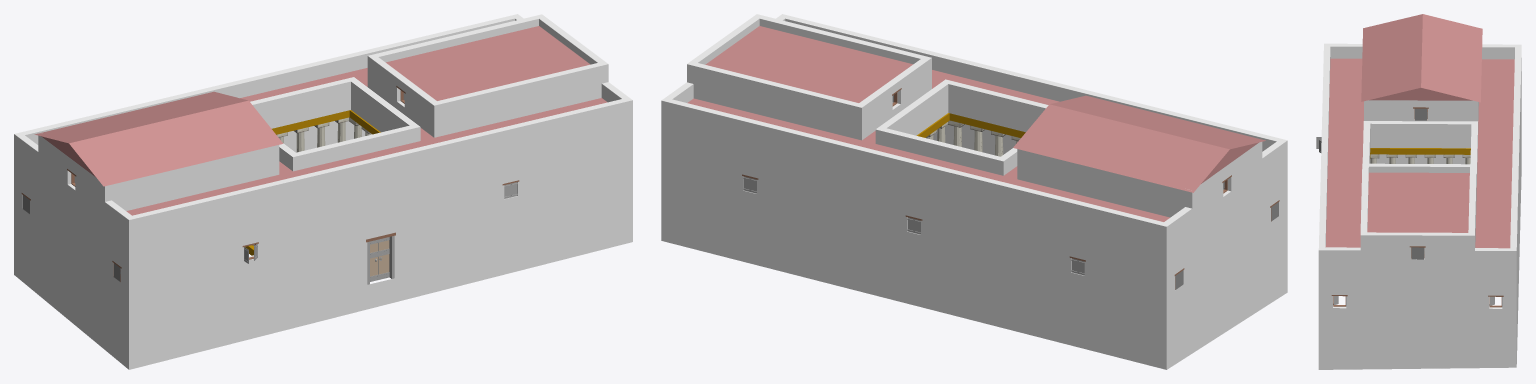
File: LOD_Block_0_63.glb
3 renders of one model, left to right at view 1: azimuth 30°, elevation 25°; view 2: azimuth 150°, elevation 25°; view 3: azimuth 270°, elevation 25°, orthographic. The views are drawn at different scales.
Parts seen in each view (by area): view 1: _1.895; view 2: _1.895; view 3: _1.895.
Part boxes in pixels (x1,y1,x2,y2): _1.895: (14,14,632,369); _1.895: (661,14,1287,369); _1.895: (1316,14,1521,369).
Bounding box in the file's own units: 37.18 × 12.96 × 15.51.
21 materials, 2 textured.
